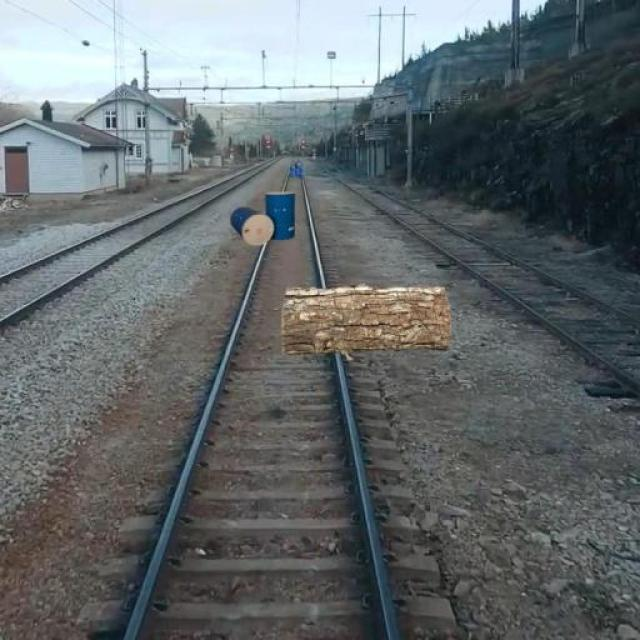Branches: (274, 278, 458, 358)
Other_objects: (224, 185, 308, 250), (286, 162, 308, 180)
